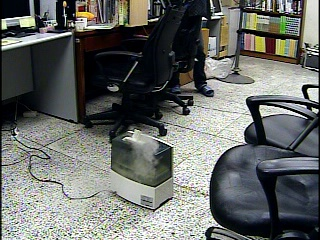smoke: (123, 129, 160, 180)
